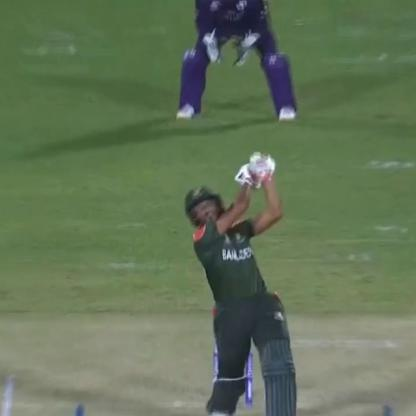bat: (226, 148, 274, 208)
pitch: (0, 362, 415, 415)
